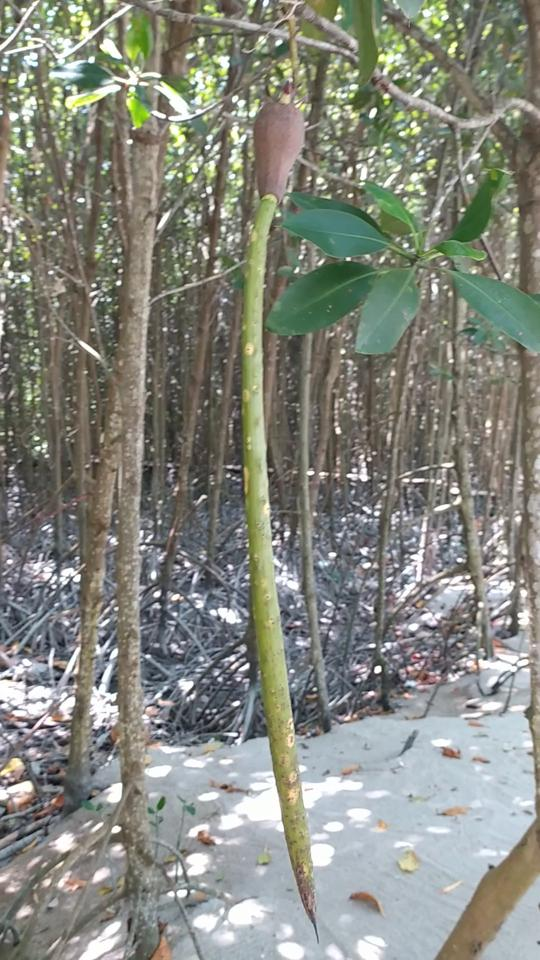setengah matang: (231, 82, 338, 944)
